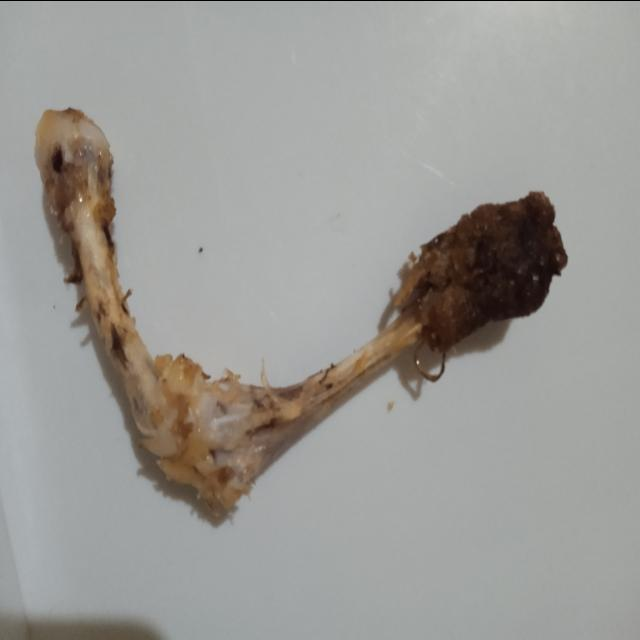bone: (21, 101, 577, 535)
